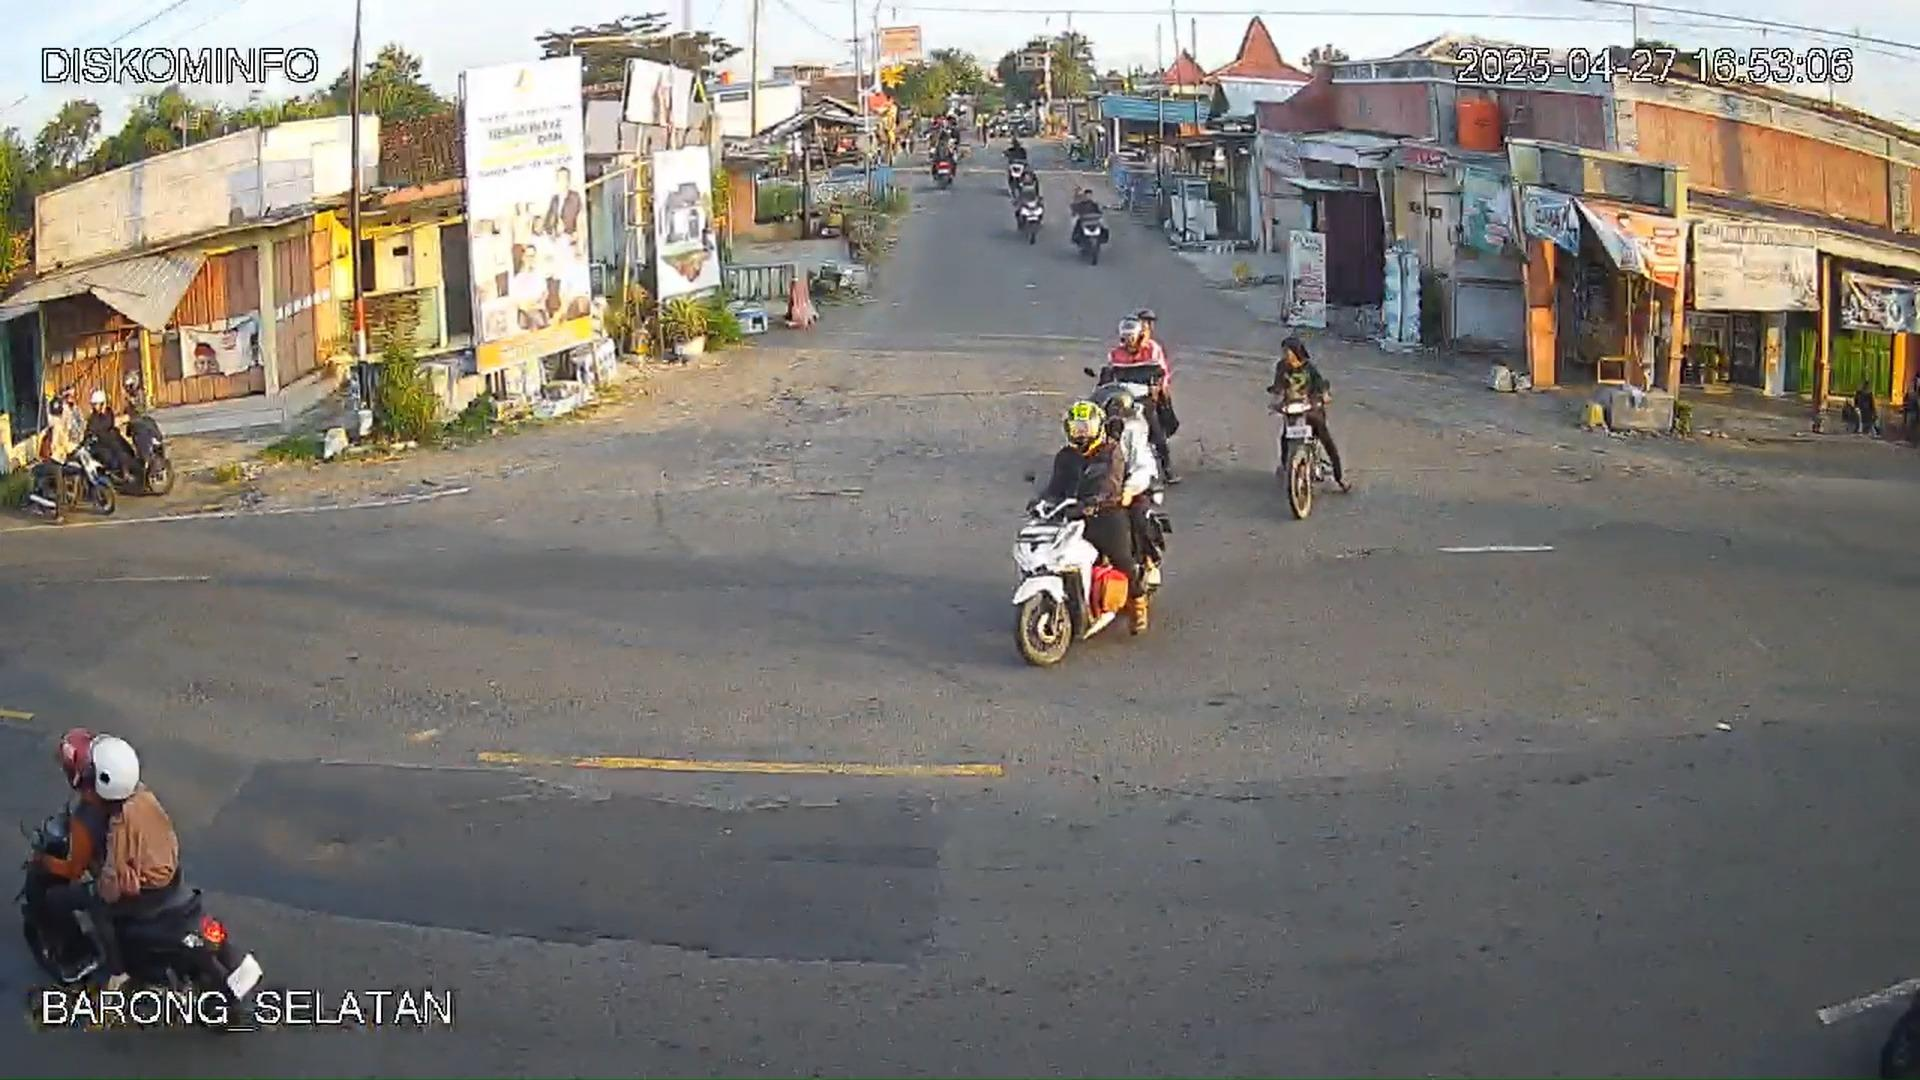Motor: (13, 783, 281, 1034), (1007, 480, 1162, 666), (1108, 311, 1178, 488), (1266, 385, 1338, 520), (24, 421, 120, 520), (83, 406, 175, 498)
